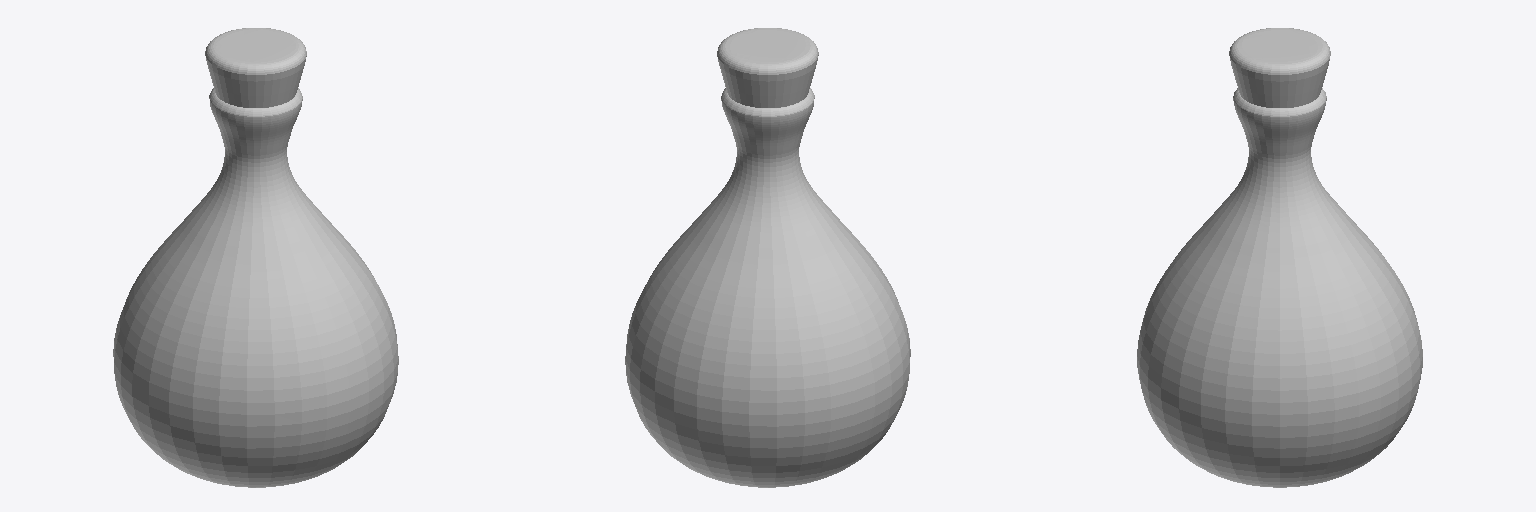
File: glassBottle.obj
3 renders of one model, left to right at view 1: azimuth 30°, elevation 25°; view 2: azimuth 150°, elevation 25°; view 3: azimuth 270°, elevation 25°, orthographic.
Visible parts, largest first — view 1: Mesh; view 2: Mesh; view 3: Mesh.
Part boxes in pixels (left/top/right/bottom): Mesh: left=113, top=28, right=398, bottom=487; Mesh: left=625, top=28, right=910, bottom=487; Mesh: left=1137, top=28, right=1422, bottom=487.
Size of the model in its own units: 41.08 by 66.62 by 41.08.